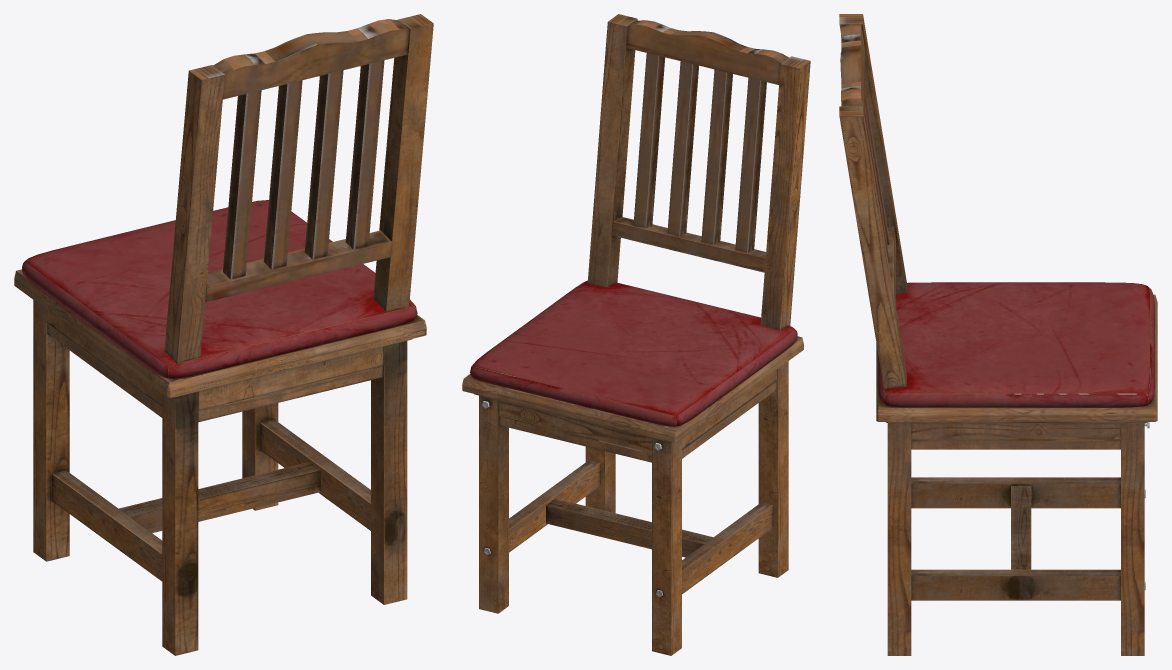
File: chair.glb
The picture shows the model from 3 angles, left to right: view 1: azimuth 30°, elevation 25°; view 2: azimuth 150°, elevation 25°; view 3: azimuth 270°, elevation 25°; orthographic projection. The views are drawn at different scales.
Parts seen in each view (by area): view 1: Untitled_0; view 2: Untitled_0; view 3: Untitled_0.
Boxes of the visible parts, x1=… form: Untitled_0: x1=14, y1=14, x2=433, y2=655; Untitled_0: x1=462, y1=14, x2=810, y2=655; Untitled_0: x1=839, y1=14, x2=1157, y2=655.
Bounding box in the file's own units: 1.6 × 3.53 × 1.86.
1 material, 1 textured.
